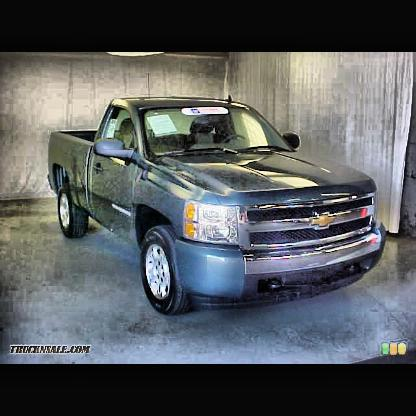Chevrolet Silverado 1500 Regular Cab 2012: (48, 96, 386, 317)
